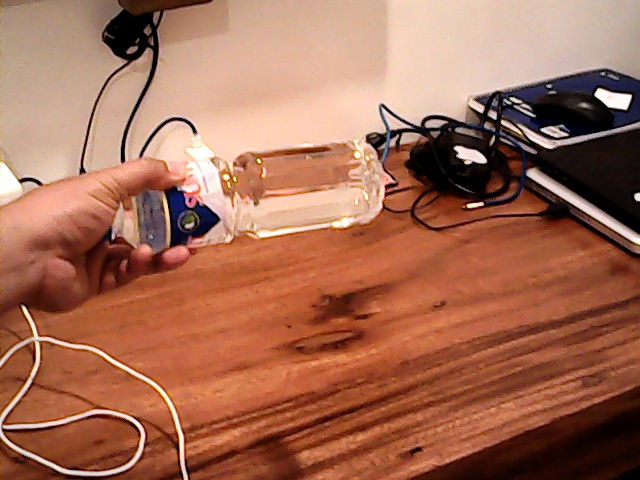Summit Water: (106, 149, 381, 237)
